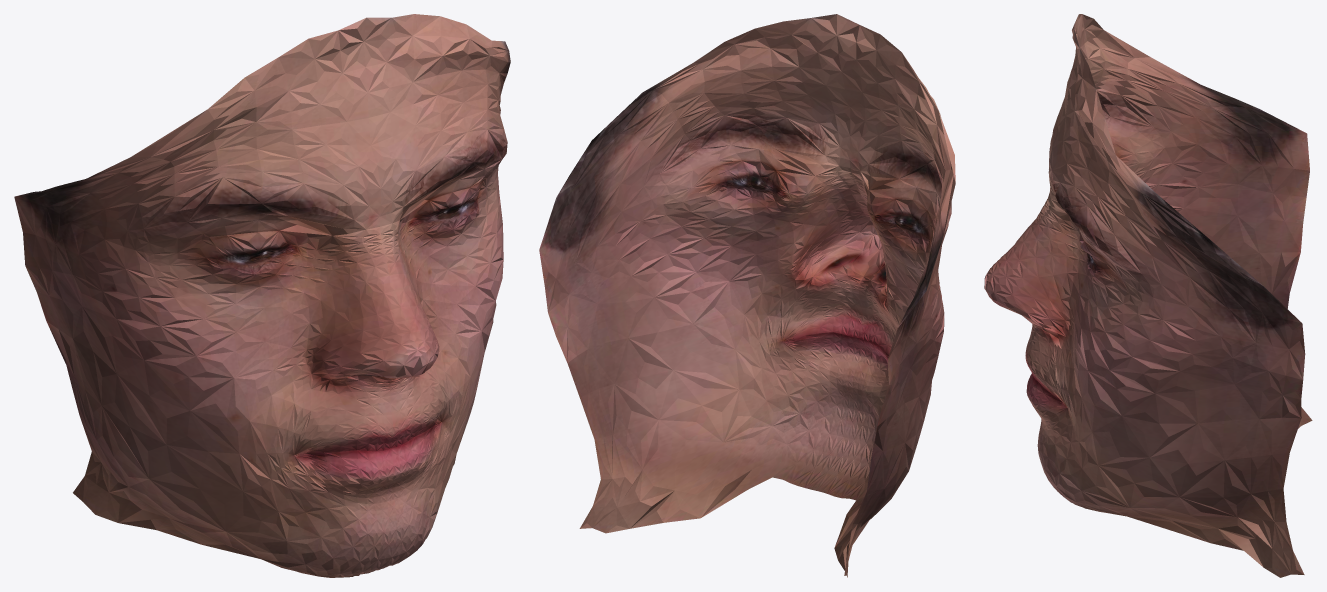
The model's file is M1002_N_conf.obj.
3 renders of one model, left to right at view 1: azimuth 30°, elevation 25°; view 2: azimuth 150°, elevation 25°; view 3: azimuth 270°, elevation 25°, orthographic. The views are drawn at different scales.
Parts seen in each view (by area): view 1: Object0; view 2: Object0; view 3: Object0.
Part boxes in pixels (x1=…): Object0: x1=14, y1=14, x2=510, y2=577; Object0: x1=539, y1=14, x2=955, y2=577; Object0: x1=984, y1=14, x2=1312, y2=577.
Bounding box in the file's own units: 159 × 197 × 121.
Materials: 1 (1 with a texture image).
